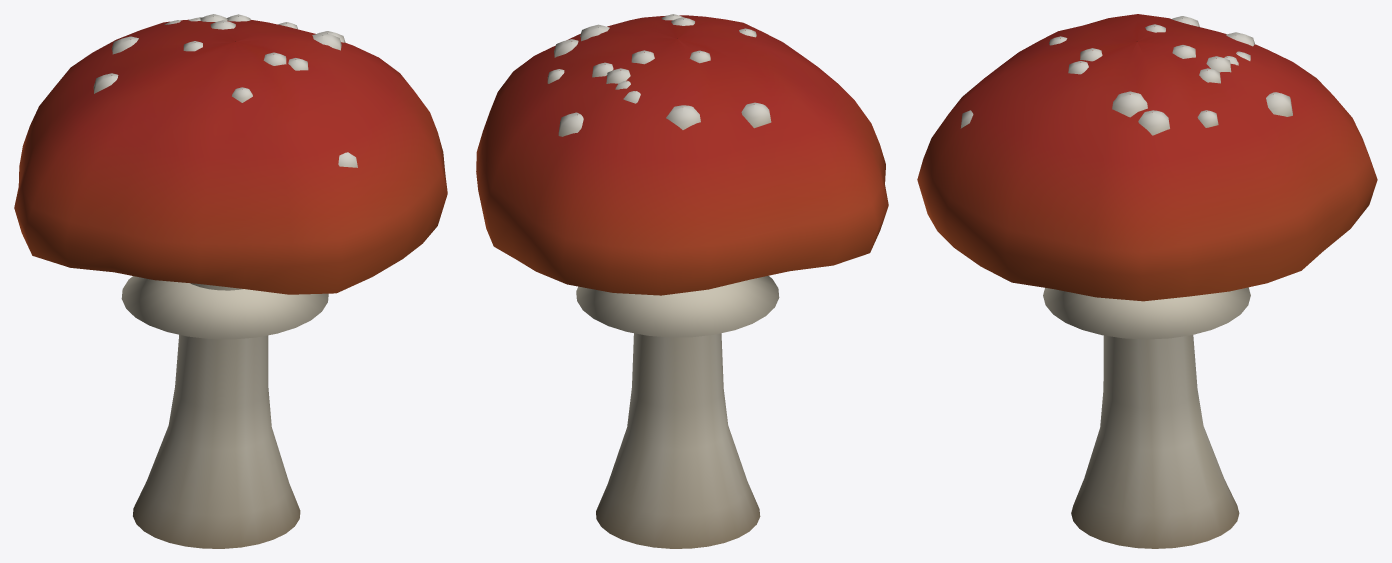
Rendered from mushroom-giant-amanita-b.glb.
3 renders of one model, left to right at view 1: azimuth 30°, elevation 25°; view 2: azimuth 150°, elevation 25°; view 3: azimuth 270°, elevation 25°, orthographic. The views are drawn at different scales.
Parts seen in each view (by area): view 1: mushroom-giant-amanita-b; view 2: mushroom-giant-amanita-b; view 3: mushroom-giant-amanita-b.
Part boxes in pixels (x1,y1,x2,y2): mushroom-giant-amanita-b: [14, 14, 447, 548]; mushroom-giant-amanita-b: [476, 14, 888, 548]; mushroom-giant-amanita-b: [917, 14, 1377, 548].
Size of the model in its own units: 1.1 by 1.25 by 1.09.
